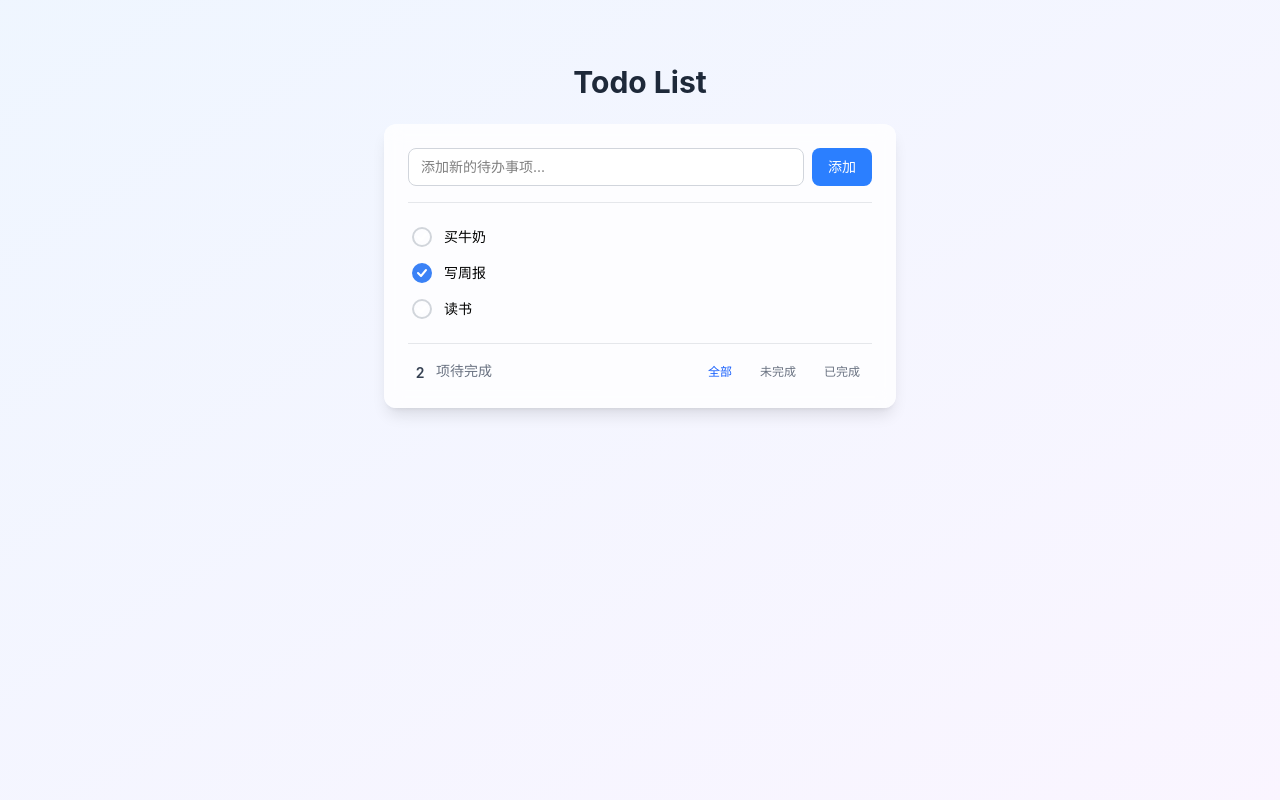
Test: F5: 列表重排动画 › 筛选切换触发重排 › should filter to show only completed todos when "已完成" is clicked
The width and height of the screenshot is (1280, 800).
Click the button "已完成" at point(842, 372), box [812,360,872,384]
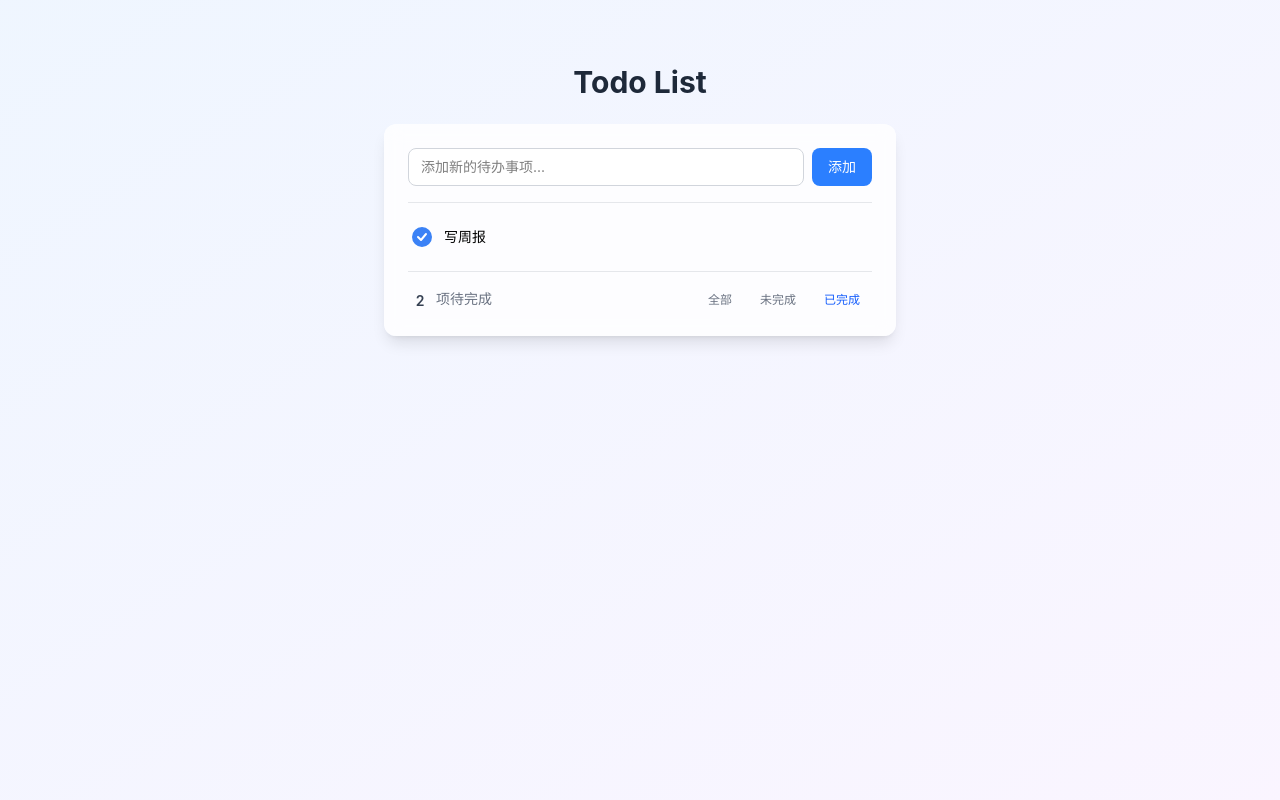
Expected: the text "写周报" is shown, [444,228,486,245]
Result: the text "买牛奶" is gone
Result: the text "读书" is gone
